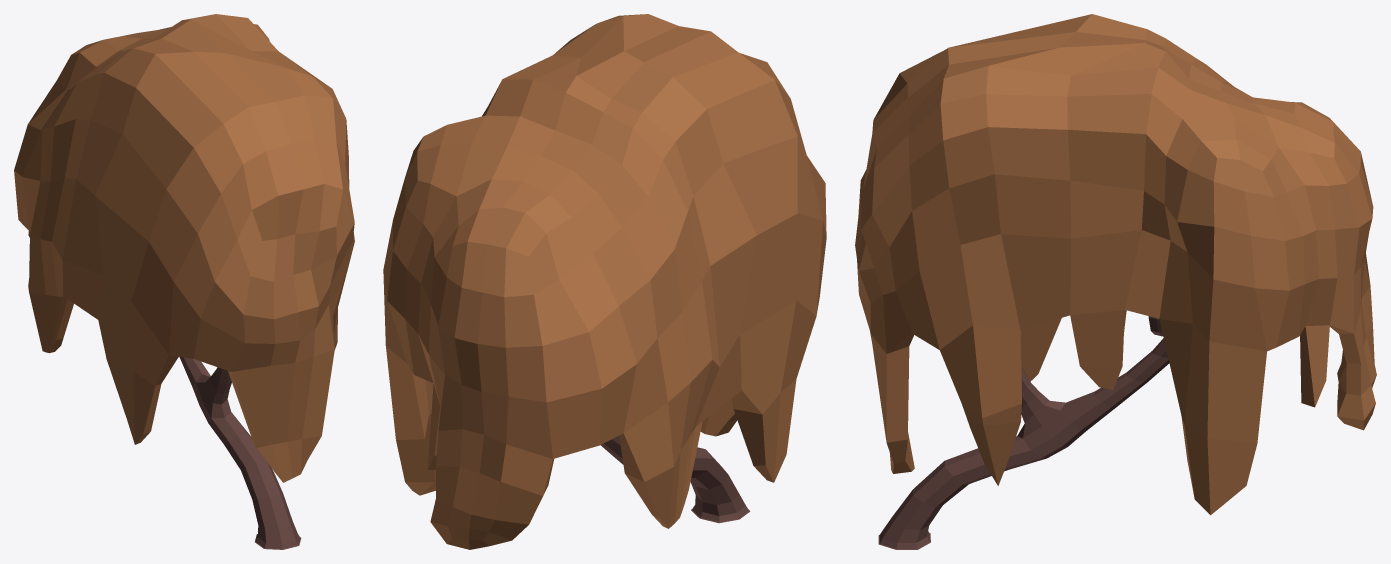
The picture shows the model from 3 angles, left to right: view 1: azimuth 30°, elevation 25°; view 2: azimuth 150°, elevation 25°; view 3: azimuth 270°, elevation 25°; orthographic projection. The views are drawn at different scales.
Parts seen in each view (by area): view 1: Willow_Autumn_2; view 2: Willow_Autumn_2; view 3: Willow_Autumn_2.
Boxes of the visible parts, x1,y1,x2,y2 form: Willow_Autumn_2: (14,14,354,549); Willow_Autumn_2: (383,14,826,549); Willow_Autumn_2: (855,14,1376,549).
Size of the model in its own units: 1.95 by 3.32 by 3.11.
